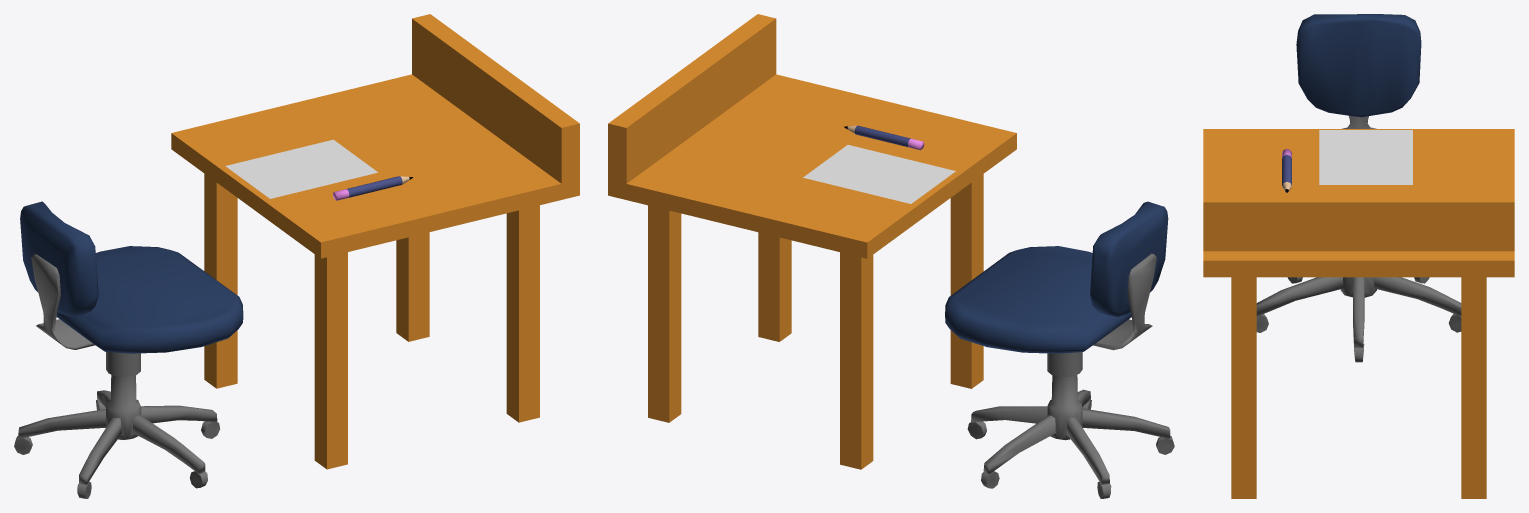
3 views of the same model, side by side, from view 1: azimuth 30°, elevation 25°; view 2: azimuth 150°, elevation 25°; view 3: azimuth 270°, elevation 25° (orthographic). The views are drawn at different scales.
Parts seen in each view (by area): view 1: Office_Chair; view 2: Office_Chair; view 3: Office_Chair.
Boxes of the visible parts, box(x1,y1,x2,y2) form: Office_Chair: box(14, 14, 579, 498); Office_Chair: box(608, 14, 1174, 498); Office_Chair: box(1203, 14, 1514, 498).
Size of what is drawn, in the model's own units: 3.56 by 2.2 by 2.
